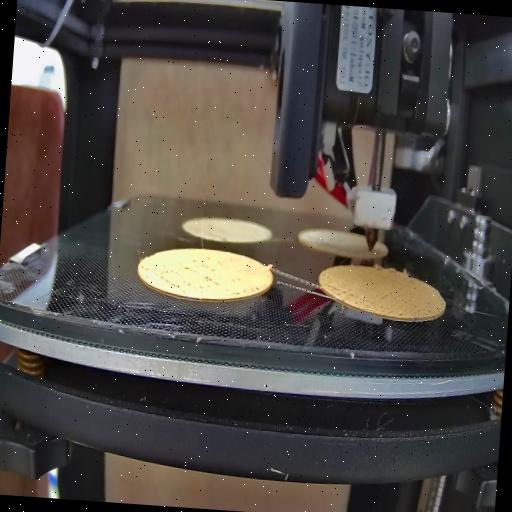under_extrusion: (143, 252, 222, 294), (378, 289, 440, 322), (323, 286, 362, 302), (232, 280, 262, 300)
